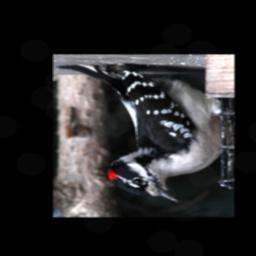Woodpecker: (56, 64, 229, 202)
